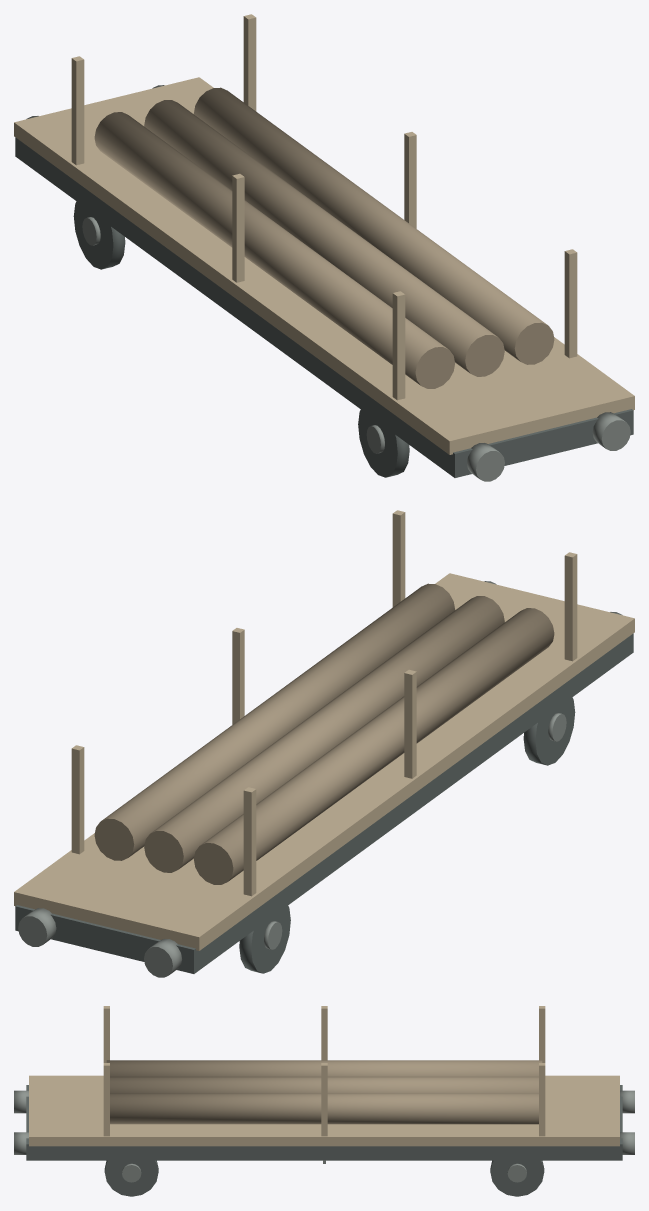
Rendered from tyne-flat_lod0.glb.
3 renders of one model, top to bottom at view 1: azimuth 30°, elevation 25°; view 2: azimuth 150°, elevation 25°; view 3: azimuth 270°, elevation 25°, orthographic. The views are drawn at different scales.
Parts seen in each view (by area): view 1: RF_FlatDeck, RF_TimberLoad.001, RF_TimberLoad, RF_TimberLoad.002, RF_Chassis, RF_Wheel.003, RF_Wheel.001, RF_Stake.001, RF_Stake.002, RF_Stake.005, RF_Stake.003, RF_Stake (+3 smaller); view 2: RF_FlatDeck, RF_TimberLoad.001, RF_TimberLoad, RF_TimberLoad.002, RF_Chassis, RF_Wheel.001, RF_Wheel.003, RF_Stake.005, RF_Stake, RF_Stake.001, RF_Stake.003, RF_Stake.002 (+3 smaller); view 3: RF_FlatDeck, RF_TimberLoad, RF_Chassis, RF_TimberLoad.002, RF_TimberLoad.001, RF_Wheel.002, RF_Wheel, RF_Stake.004, RF_Stake.002, RF_Stake, RF_Stake.001, RF_Stake.005 (+7 smaller).
Part boxes in pixels (left/top/right/bottom): RF_FlatDeck: left=14, top=77, right=634, bottom=454; RF_TimberLoad.001: left=94, top=112, right=454, bottom=388; RF_TimberLoad: left=193, top=87, right=554, bottom=364; RF_TimberLoad.002: left=144, top=100, right=504, bottom=376; RF_Chassis: left=15, top=137, right=633, bottom=477; RF_Wheel.003: left=73, top=201, right=125, bottom=269; RF_Wheel.001: left=358, top=409, right=409, bottom=477; RF_Stake.001: left=392, top=291, right=405, bottom=400; RF_Stake.002: left=564, top=249, right=577, bottom=358; RF_Stake.005: left=71, top=56, right=84, bottom=165; RF_Stake.003: left=232, top=173, right=244, bottom=282; RF_Stake: left=243, top=14, right=256, bottom=111; RF_FlatDeck: left=14, top=573, right=634, bottom=950; RF_TimberLoad.001: left=194, top=608, right=554, bottom=884; RF_TimberLoad: left=94, top=583, right=455, bottom=860; RF_TimberLoad.002: left=144, top=596, right=504, bottom=872; RF_Chassis: left=15, top=633, right=633, bottom=973; RF_Wheel.001: left=523, top=697, right=575, bottom=765; RF_Wheel.003: left=239, top=905, right=290, bottom=973; RF_Stake.005: left=243, top=787, right=256, bottom=896; RF_Stake: left=71, top=745, right=84, bottom=854; RF_Stake.001: left=564, top=552, right=577, bottom=661; RF_Stake.003: left=404, top=669, right=416, bottom=778; RF_Stake.002: left=392, top=510, right=405, bottom=607; RF_FlatDeck: left=29, top=1075, right=619, bottom=1146; RF_TimberLoad: left=110, top=1093, right=538, bottom=1124; RF_Chassis: left=26, top=1085, right=622, bottom=1160; RF_TimberLoad.002: left=110, top=1076, right=538, bottom=1093; RF_TimberLoad.001: left=106, top=1060, right=542, bottom=1076; RF_Wheel.002: left=104, top=1160, right=158, bottom=1196; RF_Wheel: left=490, top=1160, right=544, bottom=1196; RF_Stake.004: left=321, top=1063, right=327, bottom=1136; RF_Stake.002: left=103, top=1063, right=109, bottom=1136; RF_Stake: left=539, top=1063, right=545, bottom=1136; RF_Stake.001: left=103, top=1006, right=109, bottom=1062; RF_Stake.005: left=539, top=1006, right=545, bottom=1062.
Bounding box in the file's own units: 2.8 × 2.8 × 11.98.
